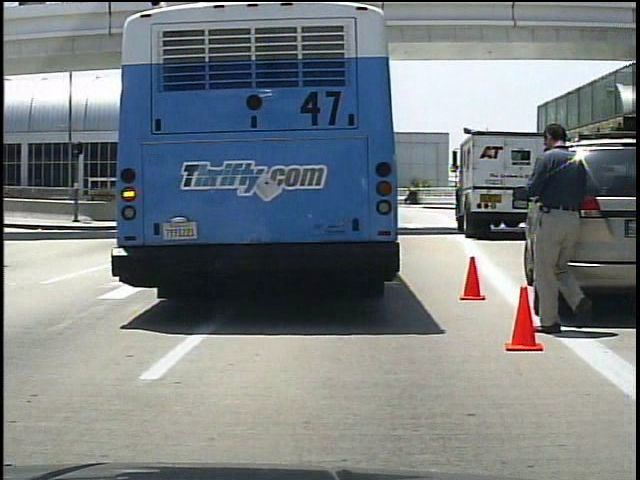person: (513, 117, 606, 343)
